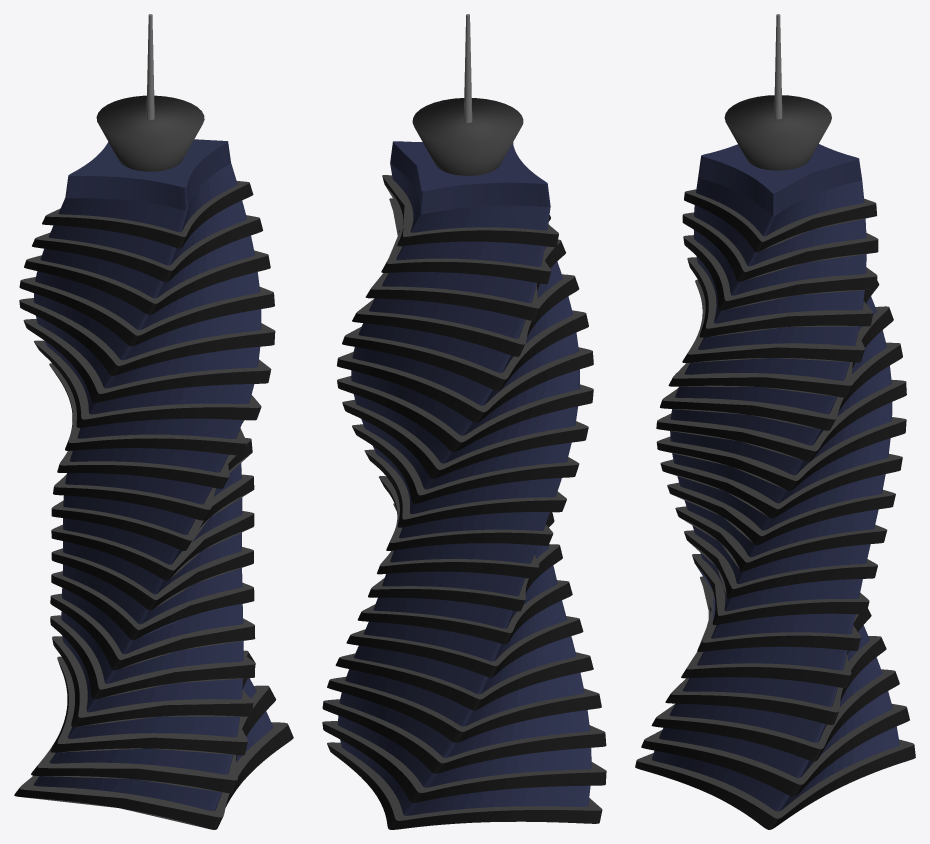
Rendered from twist_building.fbx.
The picture shows the model from 3 angles, left to right: view 1: azimuth 30°, elevation 25°; view 2: azimuth 150°, elevation 25°; view 3: azimuth 270°, elevation 25°; orthographic projection. The views are drawn at different scales.
Parts seen in each view (by area): view 1: NurbsCircle.001, Cone, Cylinder; view 2: NurbsCircle.001, Cone, Cylinder; view 3: NurbsCircle.001, Cone, Cylinder.
Boxes of the visible parts, x1,y1,x2,y2 form: NurbsCircle.001: (14,139,293,829); Cone: (96,95,204,171); Cylinder: (146,14,154,120); NurbsCircle.001: (322,141,606,829); Cone: (412,98,523,175); Cylinder: (463,14,472,122); NurbsCircle.001: (635,144,915,829); Cone: (724,95,831,170); Cylinder: (774,14,782,119).
Bounding box in the file's own units: 1115 × 2995 × 1008.
